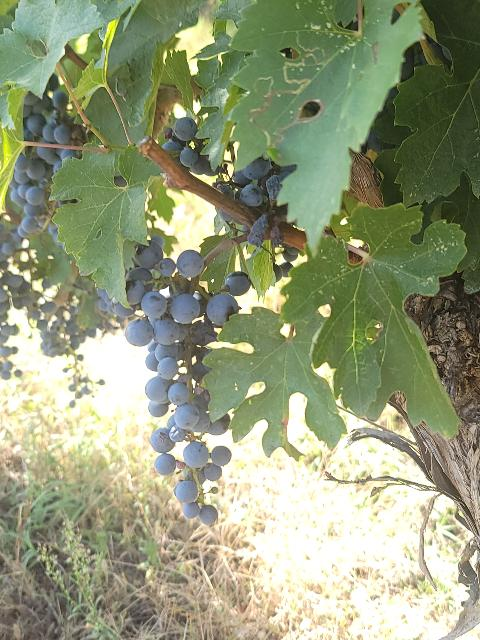grapes: (125, 242, 240, 525)
